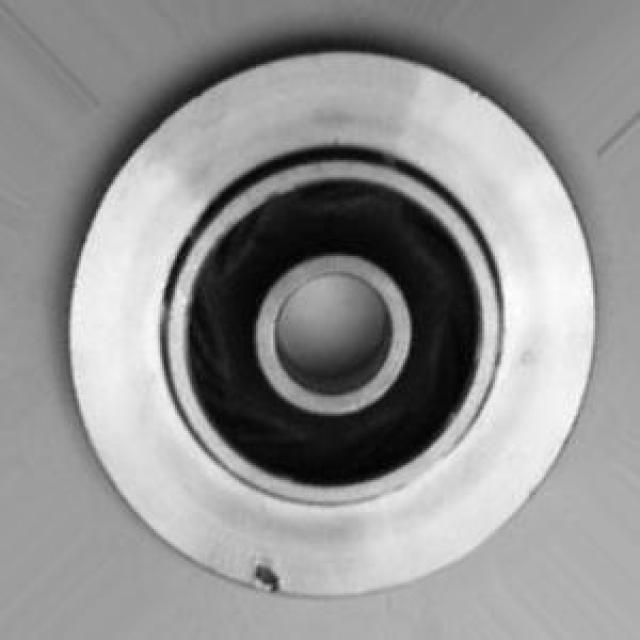Defect: (240, 551, 284, 602)
